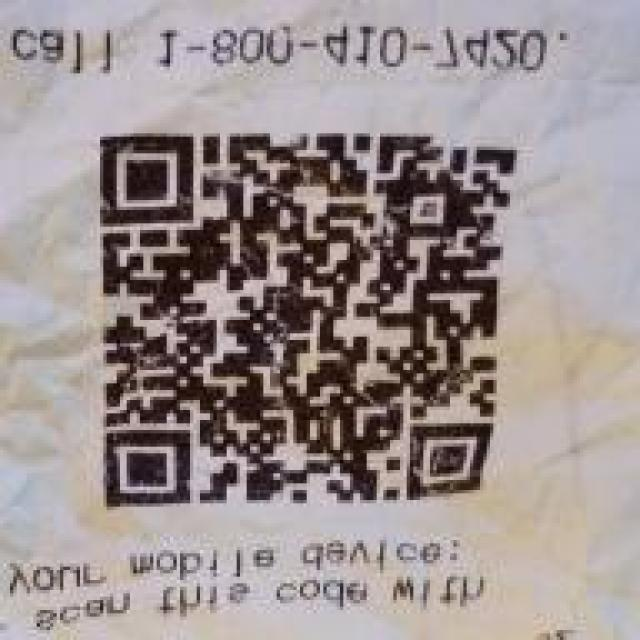qr_code: (98, 133, 518, 507)
